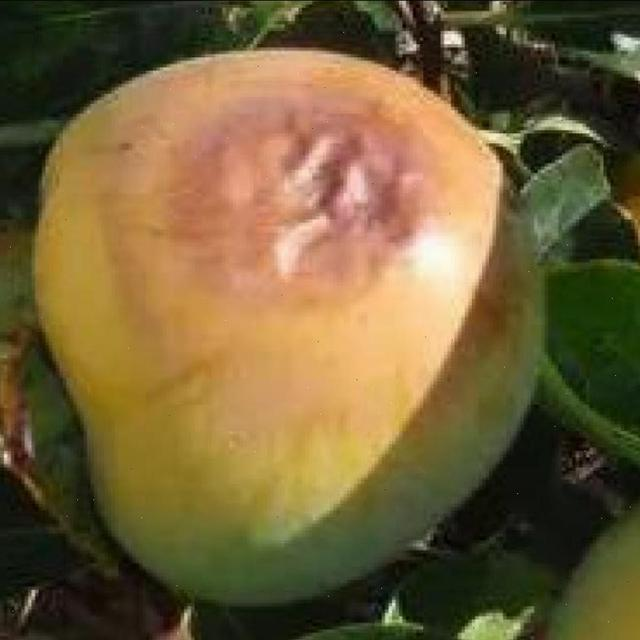Sunscald Fruit: (100, 61, 328, 224)
